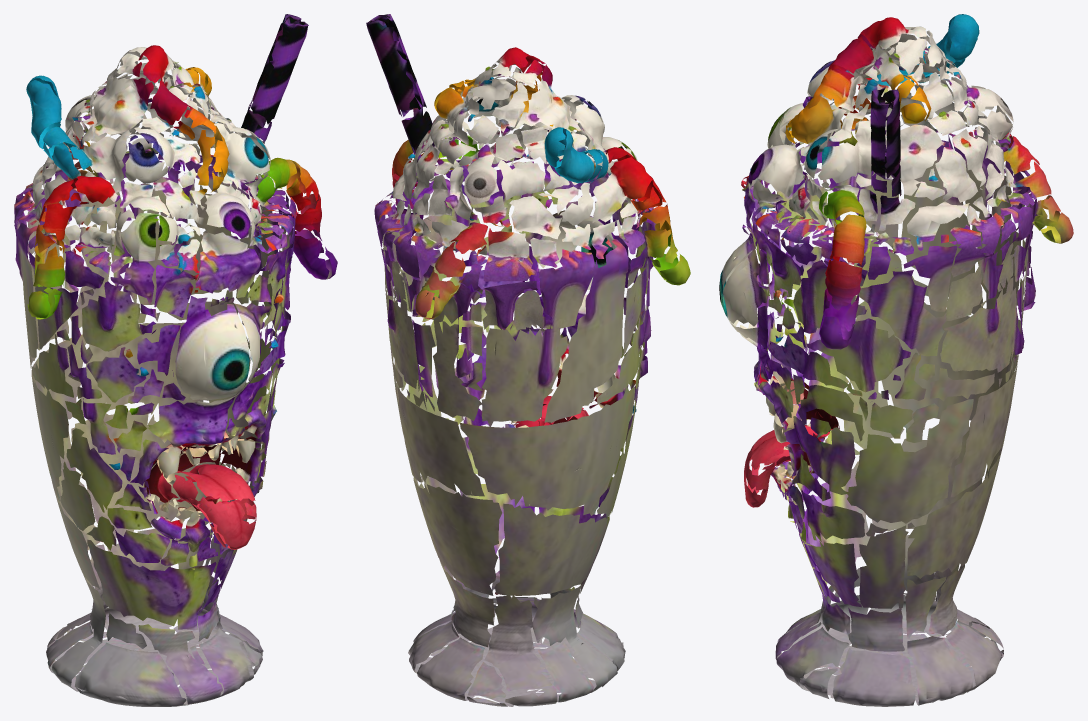
File: milkshake.glb
3 renders of one model, left to right at view 1: azimuth 30°, elevation 25°; view 2: azimuth 150°, elevation 25°; view 3: azimuth 270°, elevation 25°, orthographic. The views are drawn at different scales.
Parts seen in each view (by area): view 1: mesh_node; view 2: mesh_node; view 3: mesh_node.
Part boxes in pixels (bbox=[...]): mesh_node: bbox=[14, 14, 337, 706]; mesh_node: bbox=[366, 14, 690, 706]; mesh_node: bbox=[719, 14, 1073, 706].
Size of the model in its own units: 0.9735 by 1.9 by 0.9434.
1 material, 1 textured.
